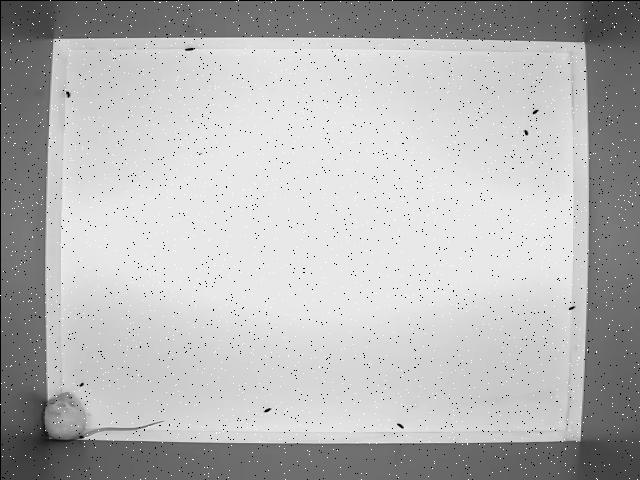Tikus: (42, 389, 165, 441)
